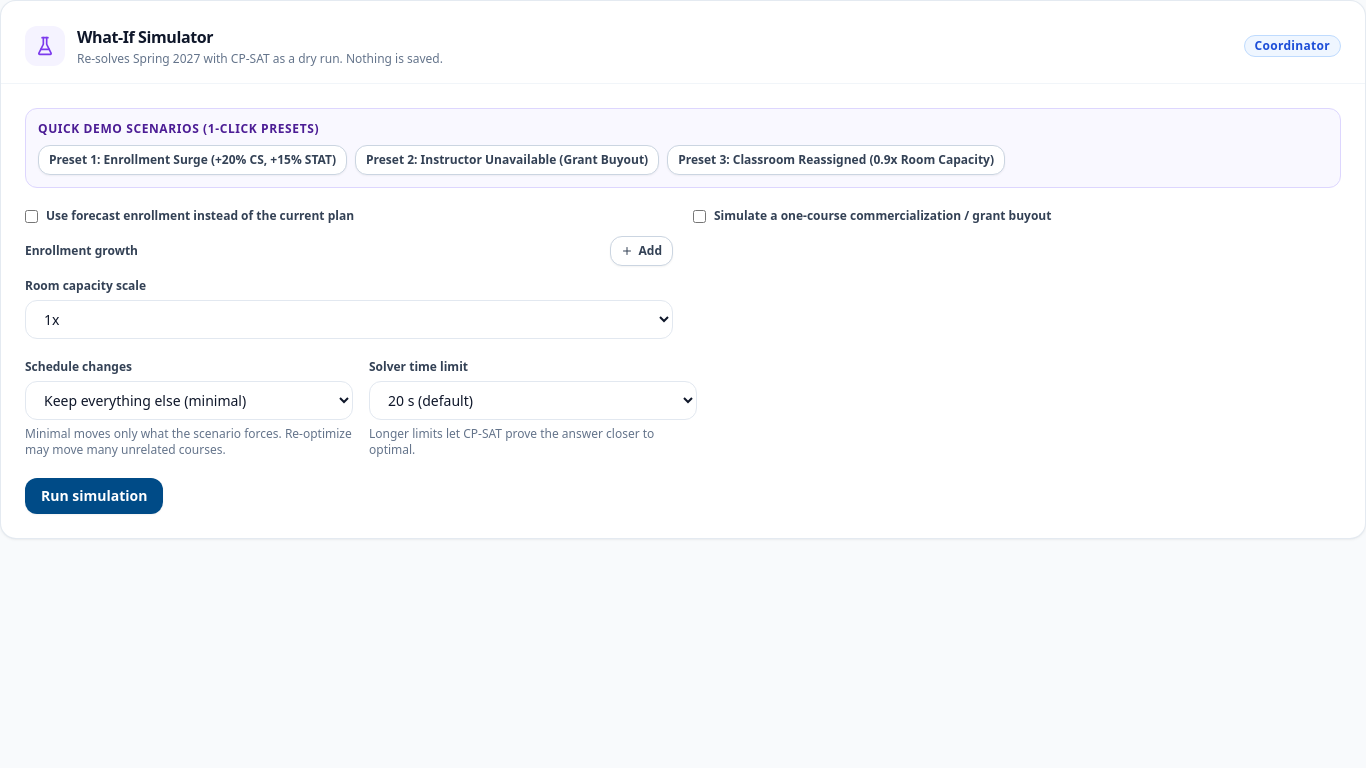
Test: WhatIfPanel › sends growth and capacity levers for coordinators including BIOE in Spring 2027 dry run
expect the element with test id "whatif-panel" shows "Re-solves Spring 2027 with CP-SAT as a dry run": met, box [77,50,443,67]
Step 1. Click the checkbox with test id "use-forecast" → click(32, 216), box [25,210,38,222]
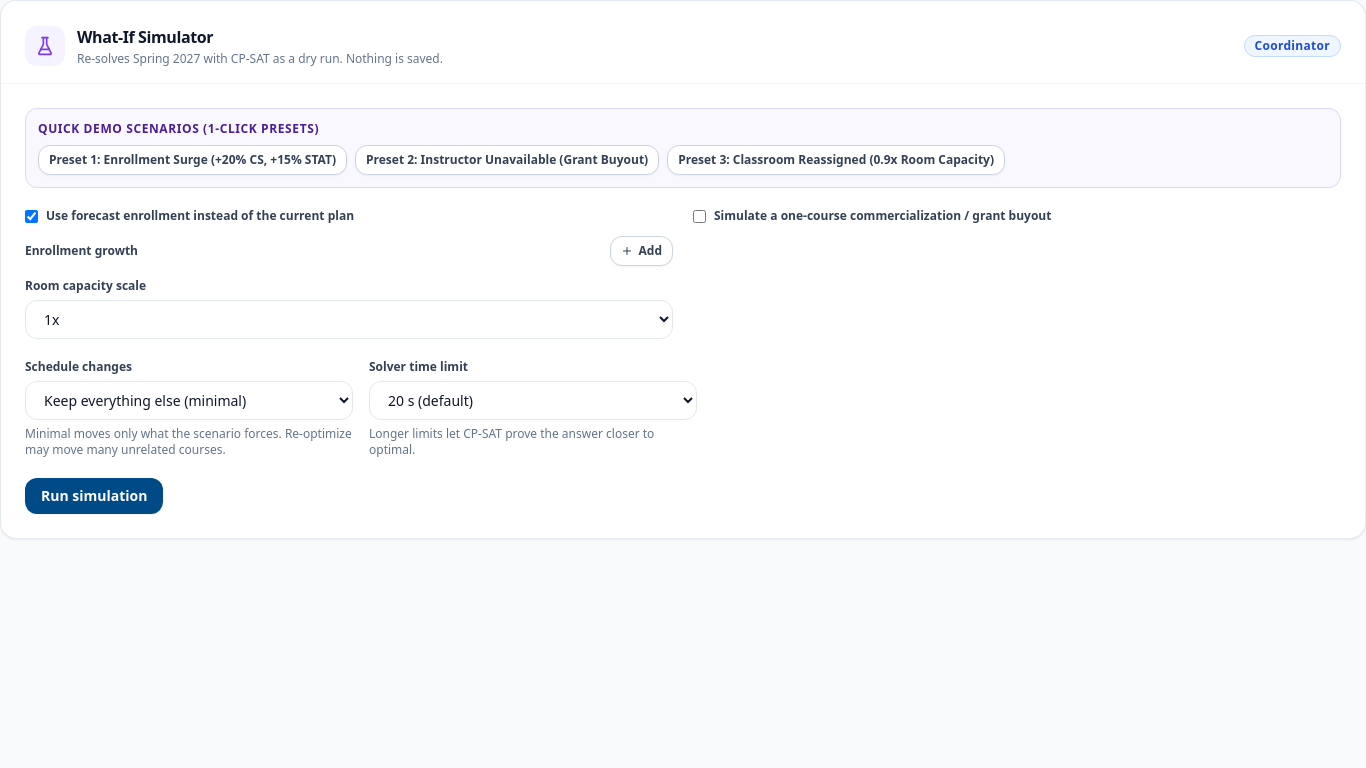
Step 2. Click the button with test id "add-growth" → click(641, 251), box [610,236,673,266]
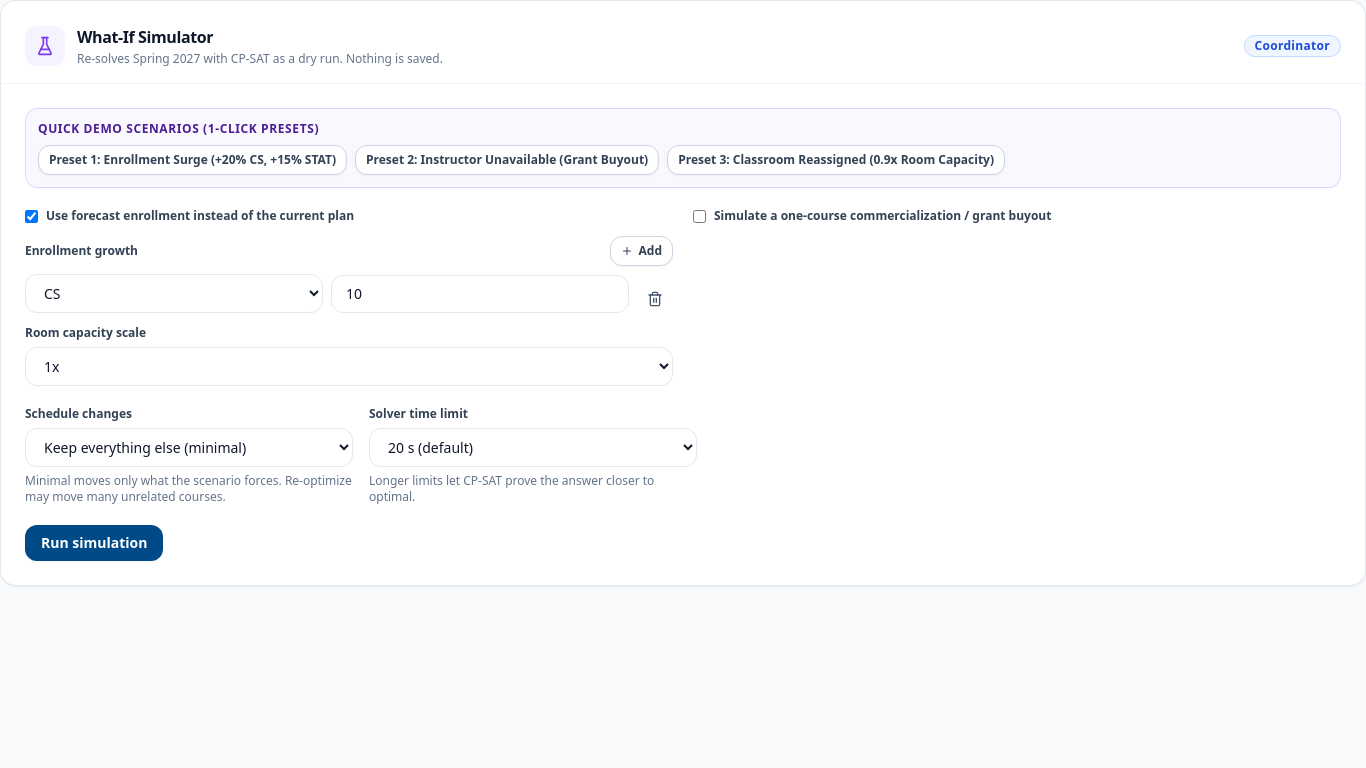
expect the number of elements with test id "growth-row" is 1: met, box [25,274,673,313]
Step 3. Select "BIOE" in the dropdown named "Department" → (174, 294), box [25,274,323,313]
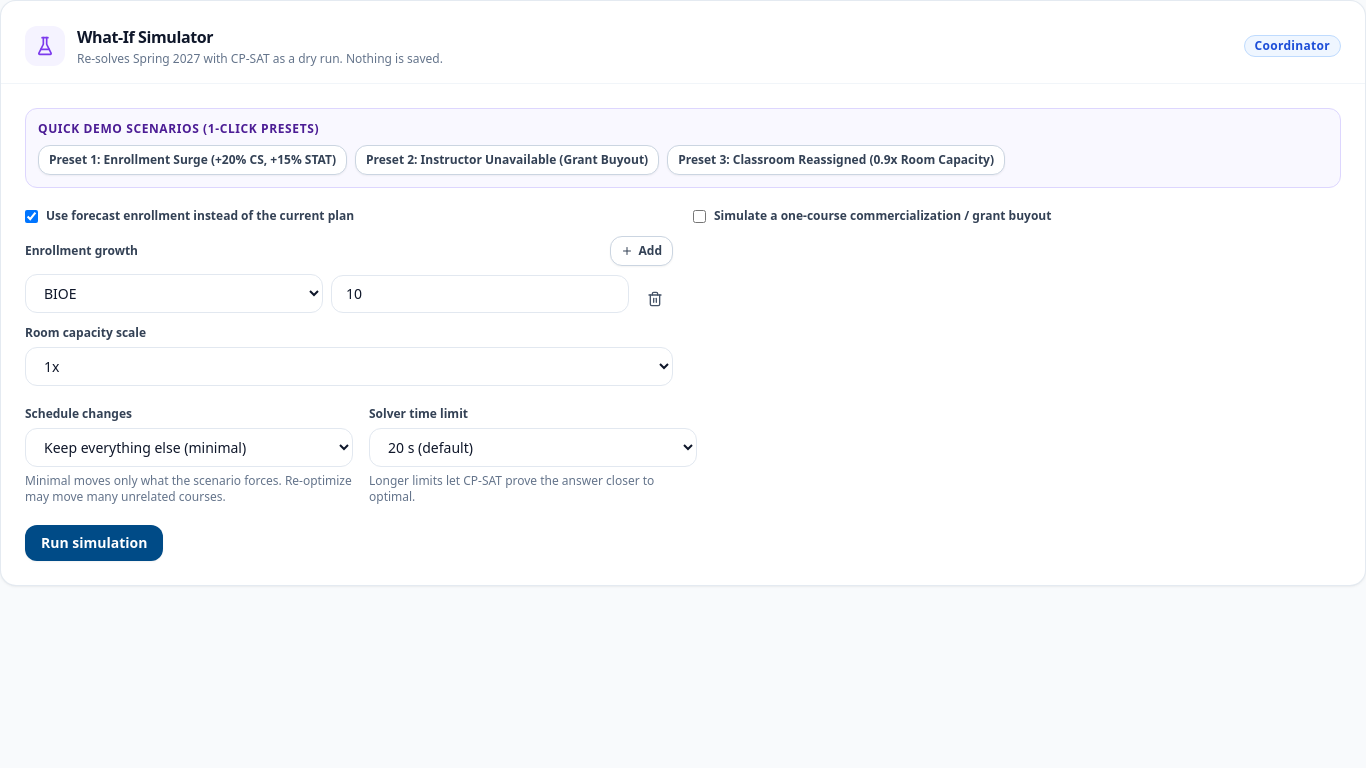
Step 4. Select "0.9x" in the dropdown with test id "capacity-scale" → (349, 366), box [25,347,673,386]
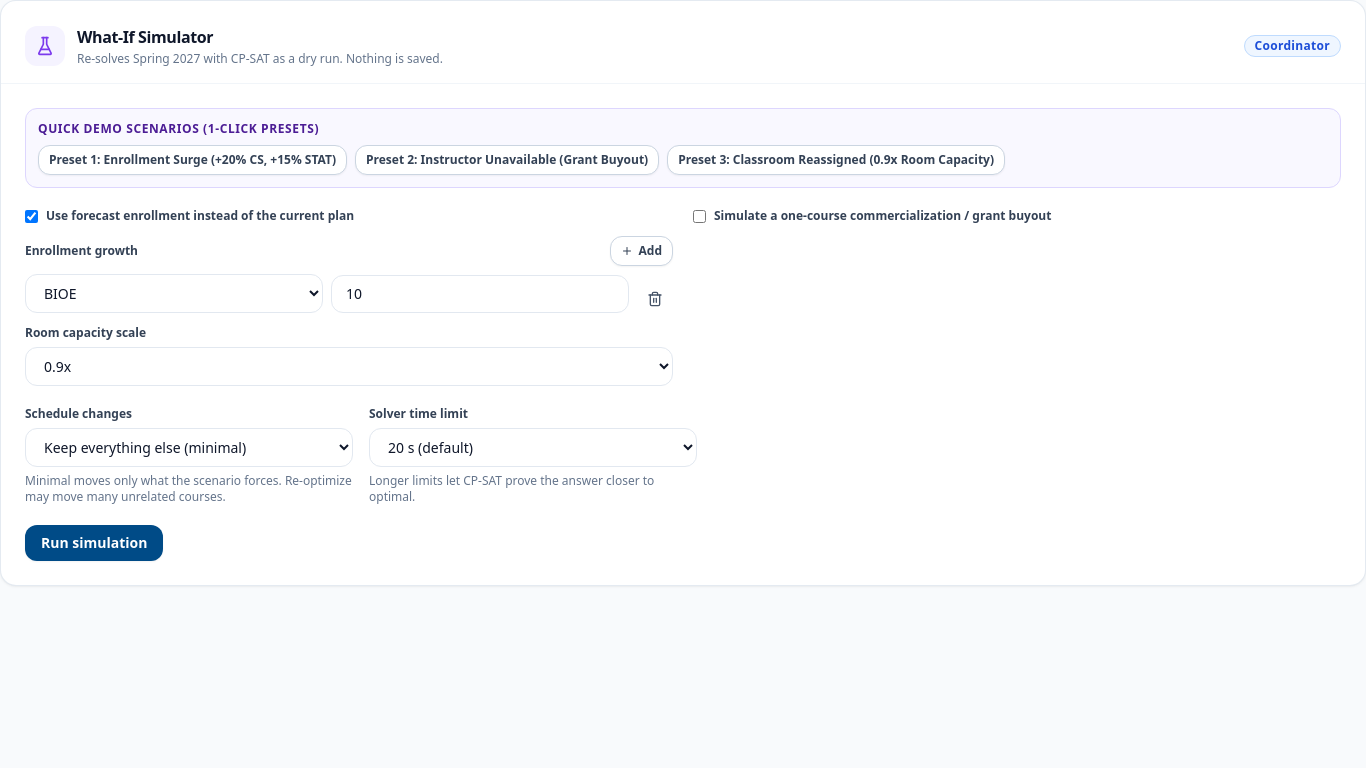
Step 5. Click the button with test id "run-scenario" → click(94, 543), box [25,525,163,561]
(page scrolled)
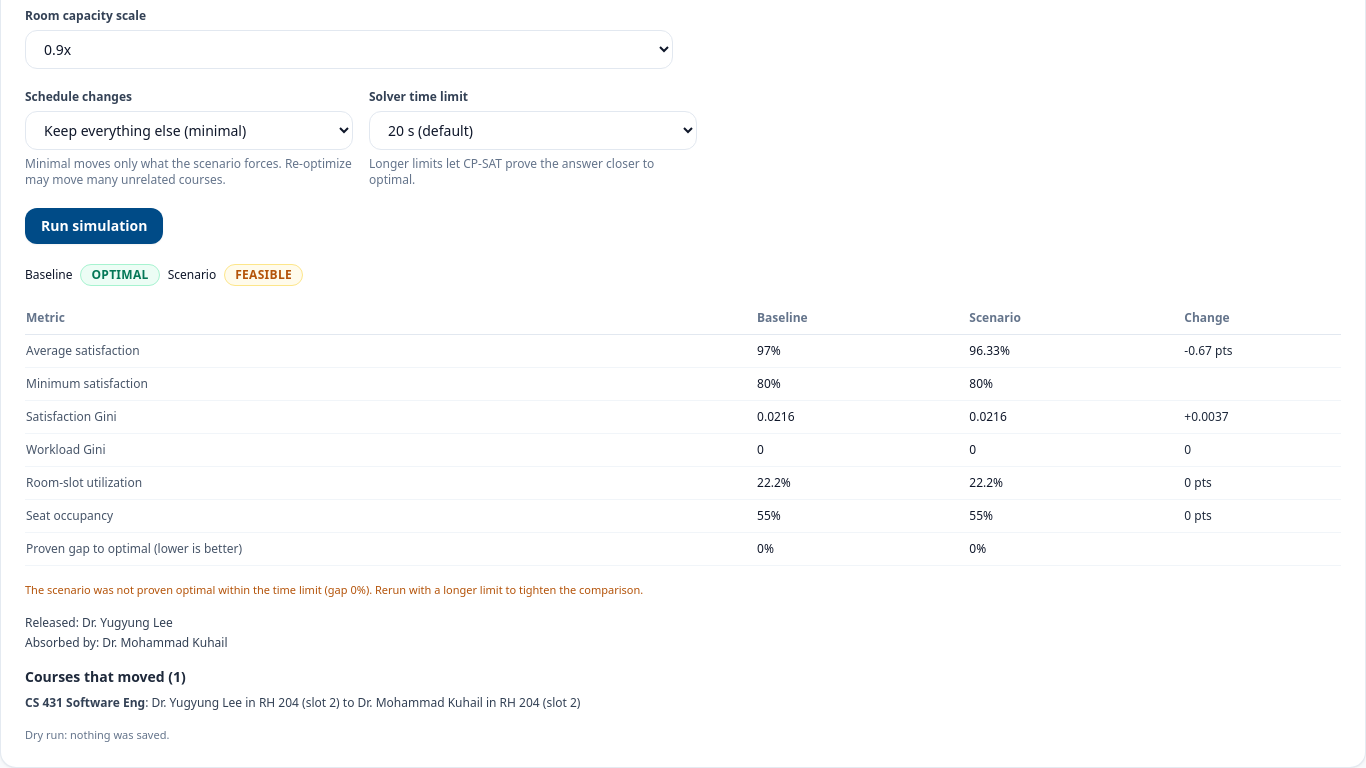
expect the element with test id "whatif-result" is shown: met
